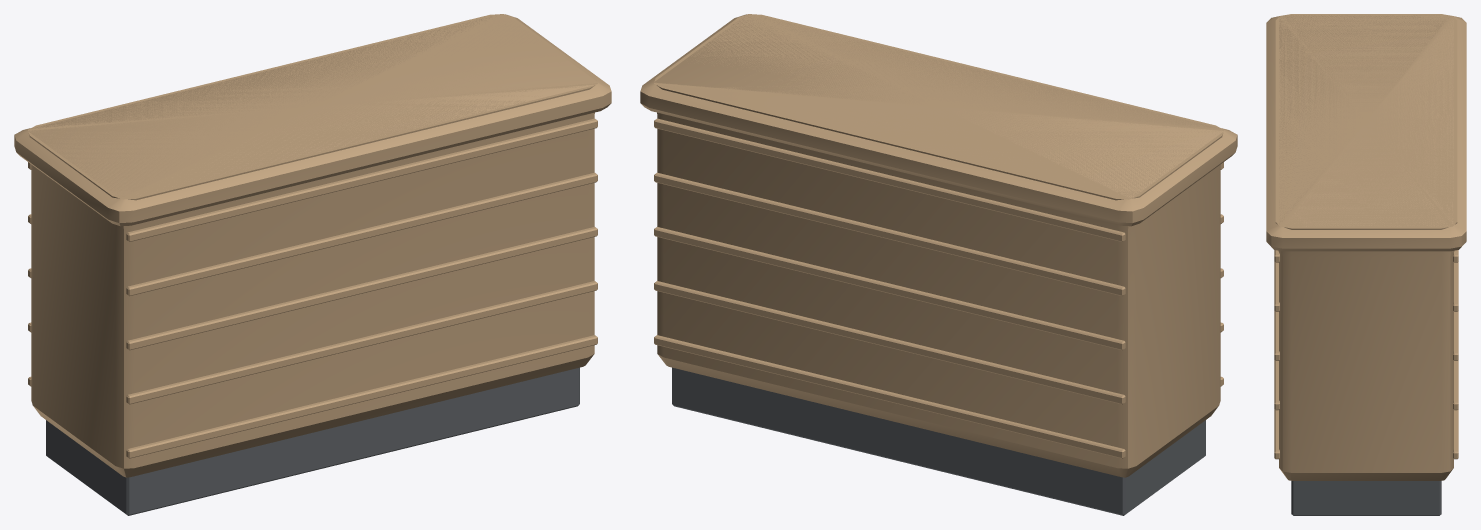
The model's file is bakery-and-cafe-planter-barrier-e736ac50__22221.glb.
The picture shows the model from 3 angles, left to right: view 1: azimuth 30°, elevation 25°; view 2: azimuth 150°, elevation 25°; view 3: azimuth 270°, elevation 25°; orthographic projection. The views are drawn at different scales.
Parts seen in each view (by area): view 1: planter-barrier; view 2: planter-barrier; view 3: planter-barrier.
Part boxes in pixels (x1,y1,x2,y2): planter-barrier: (14, 14, 611, 515); planter-barrier: (640, 14, 1237, 515); planter-barrier: (1266, 14, 1466, 515).
Size of the model in its own units: 1.26 by 0.78 by 0.4799.
